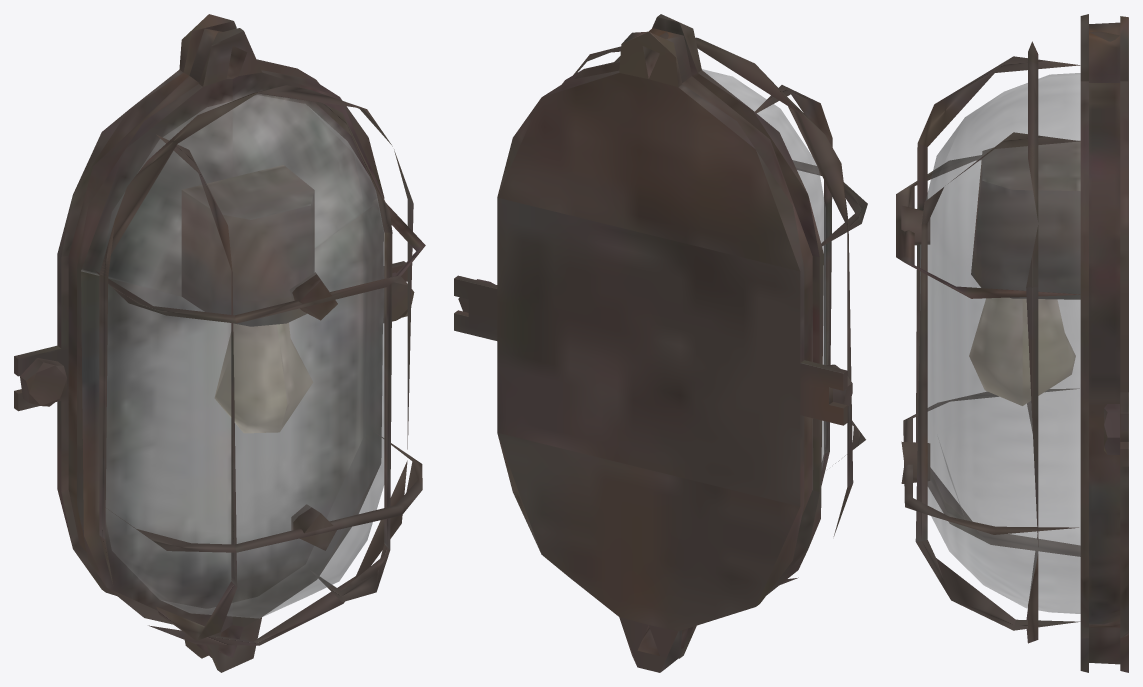
Rendered from lampWall_lo.glb.
3 views of the same model, side by side, from view 1: azimuth 30°, elevation 25°; view 2: azimuth 150°, elevation 25°; view 3: azimuth 270°, elevation 25° (orthographic).
Visible parts, largest first — view 1: industrial_wall_lamp; view 2: industrial_wall_lamp; view 3: industrial_wall_lamp.
Boxes of the visible parts, x1=… form: industrial_wall_lamp: x1=14, y1=14, x2=425, y2=672; industrial_wall_lamp: x1=454, y1=14, x2=867, y2=672; industrial_wall_lamp: x1=896, y1=14, x2=1128, y2=672.
Bounding box in the file's own units: 0.2734 × 0.4283 × 0.1389.
Materials: 2 (2 with a texture image).
